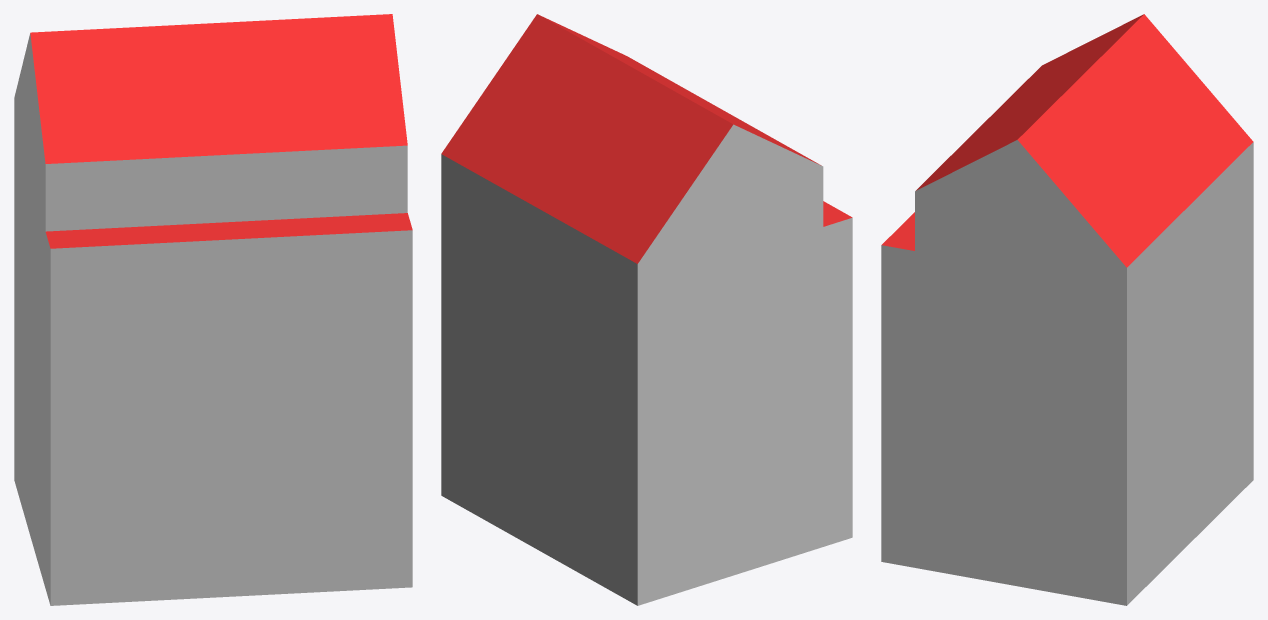
The model's file is DEBY_LOD2_4907014.dae.
The picture shows the model from 3 angles, left to right: view 1: azimuth 30°, elevation 25°; view 2: azimuth 150°, elevation 25°; view 3: azimuth 270°, elevation 25°; orthographic projection. The views are drawn at different scales.
Size of the model in its own units: 16.76 by 15.51 by 20.54.
